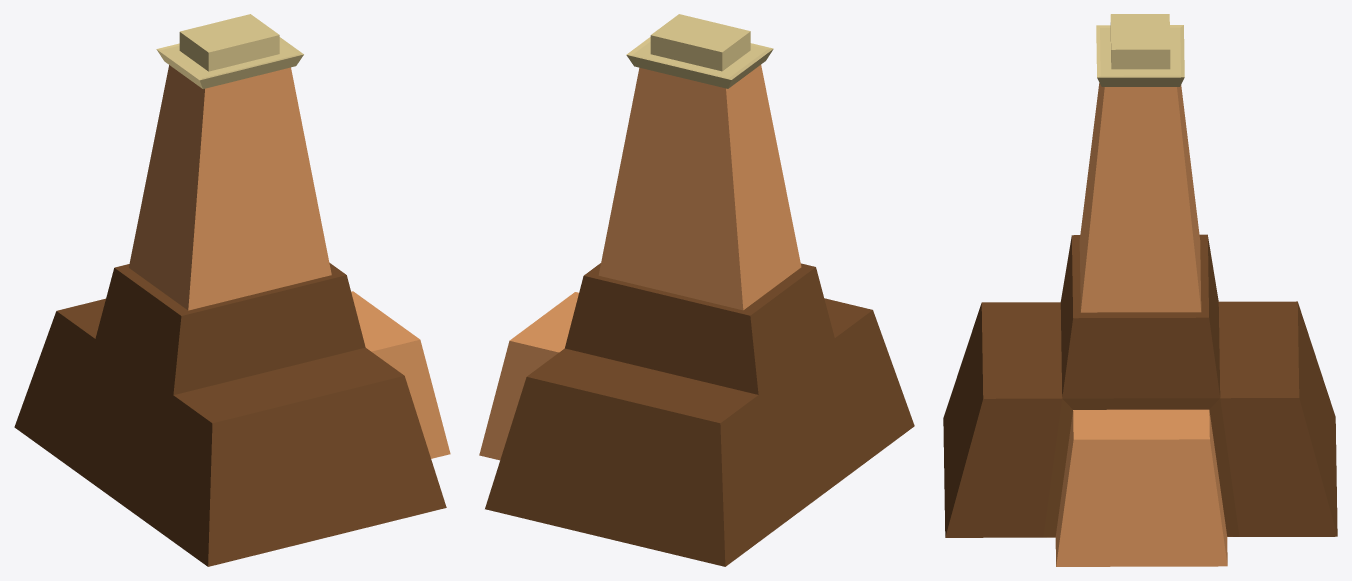
3 renders of one model, left to right at view 1: azimuth 30°, elevation 25°; view 2: azimuth 150°, elevation 25°; view 3: azimuth 270°, elevation 25°, orthographic. The views are drawn at different scales.
Visible parts, largest first — view 1: Largest Temple.001; view 2: Largest Temple.001; view 3: Largest Temple.001.
Boxes of the visible parts, x1,y1,x2,y2 form: Largest Temple.001: [14, 14, 450, 566]; Largest Temple.001: [479, 14, 914, 566]; Largest Temple.001: [943, 14, 1337, 566].
Bounding box in the file's own units: 2.02 × 2.8 × 2.25.
